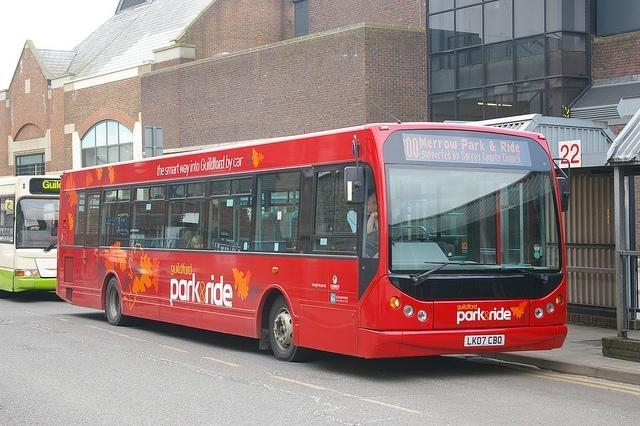bus: (57, 121, 566, 361), (0, 177, 60, 296)
